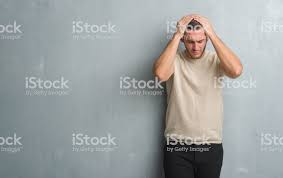white_male: (181, 29, 210, 60)
